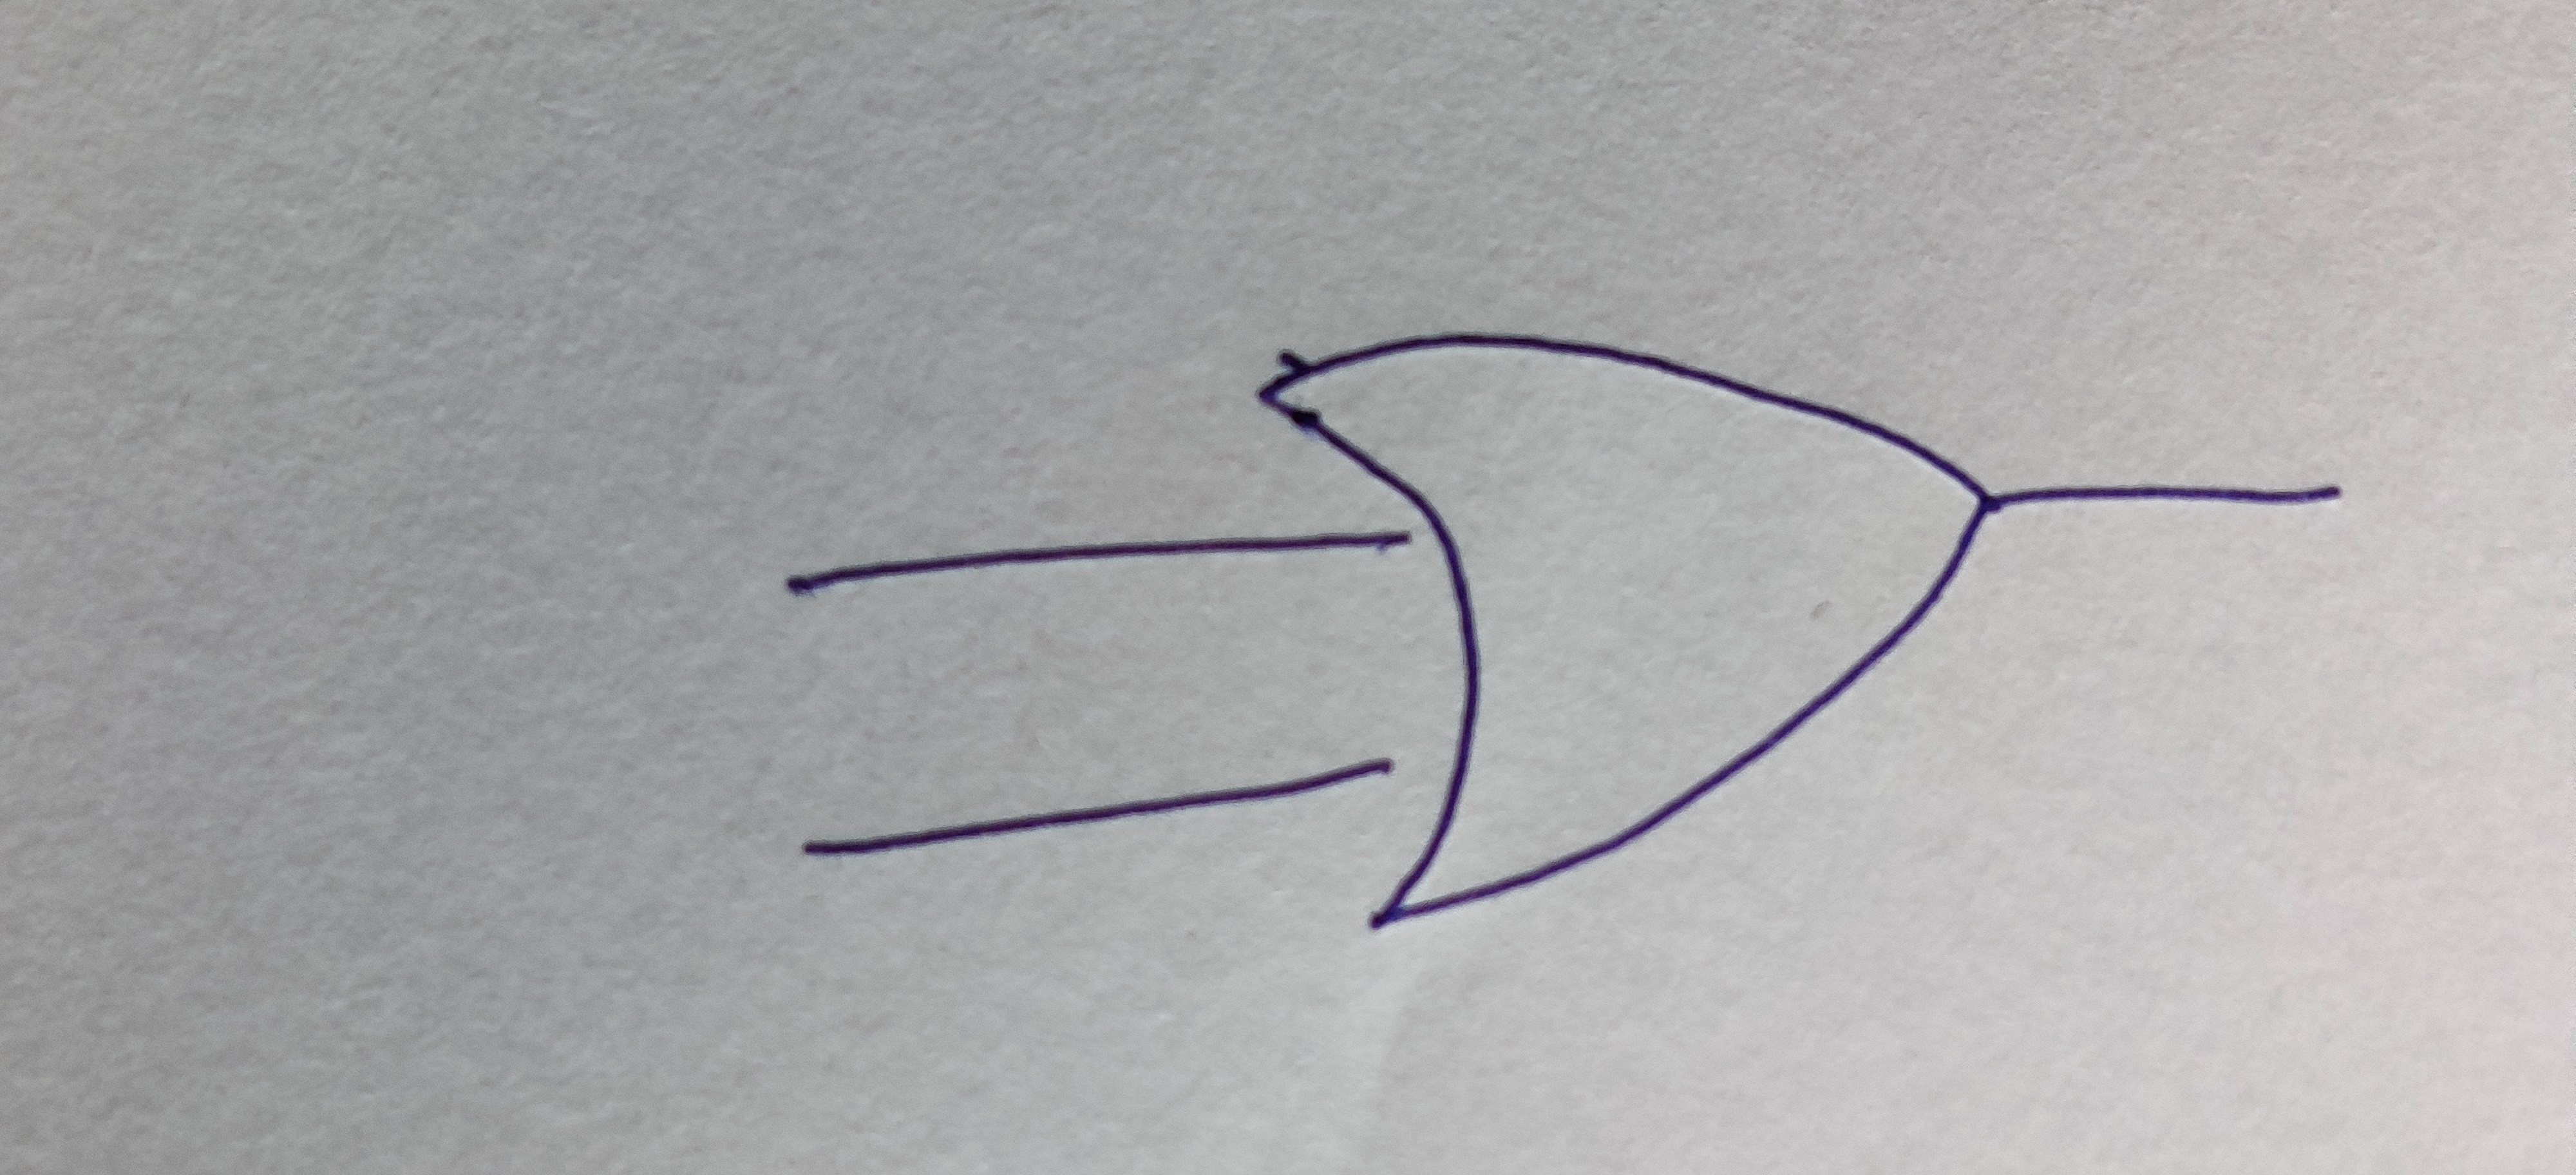or: (1273, 330, 1991, 927)
